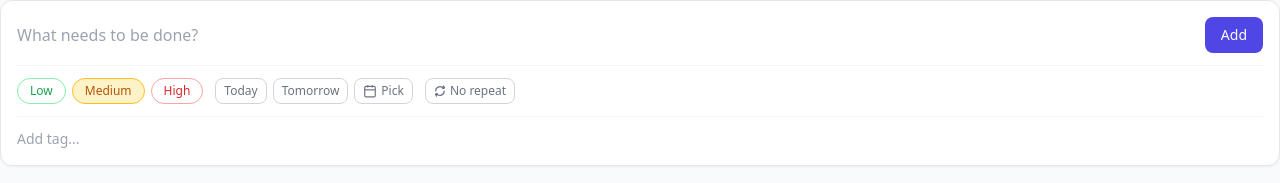
Test: TaskInput – tag management › adds a tag when a comma is typed
In the field labelled "Add tag...": (118, 139) [17,129,219,149], type "home,"
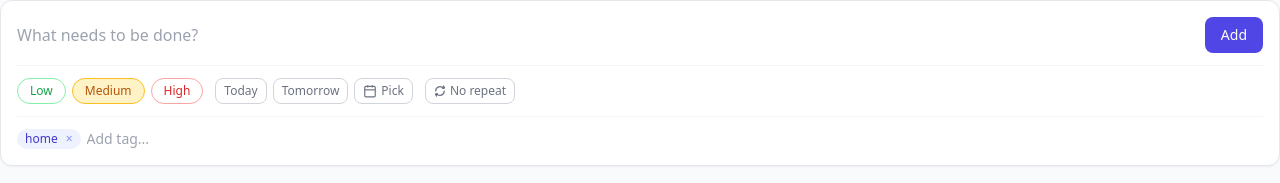
Expected: the text "home" is shown, [25,130,58,147]
